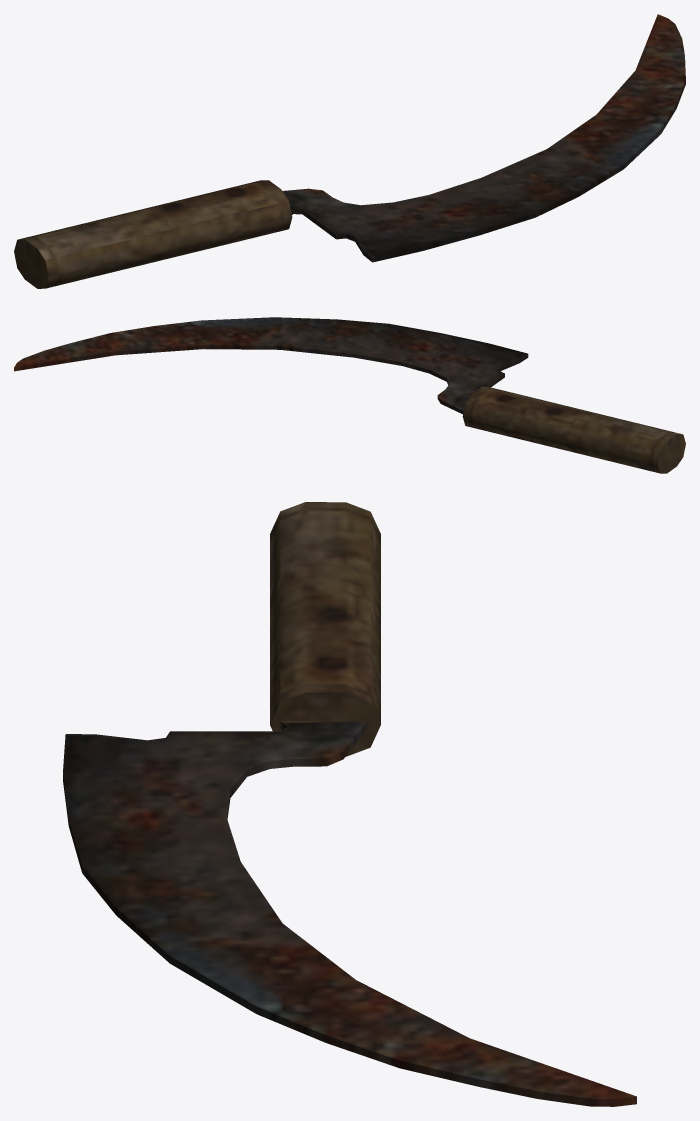
Rendered from sickle_mx_1.obj.
3 renders of one model, top to bottom at view 1: azimuth 30°, elevation 25°; view 2: azimuth 150°, elevation 25°; view 3: azimuth 270°, elevation 25°, orthographic. The views are drawn at different scales.
Visible parts, largest first — view 1: sickle_mx_1; view 2: sickle_mx_1; view 3: sickle_mx_1.
Part boxes in pixels (left/top/right/bottom): sickle_mx_1: left=14, top=14, right=685, bottom=288; sickle_mx_1: left=14, top=317, right=685, bottom=473; sickle_mx_1: left=63, top=502, right=636, bottom=1106.
Bounding box in the file's own units: 0.4752 × 0.025 × 0.2027.
